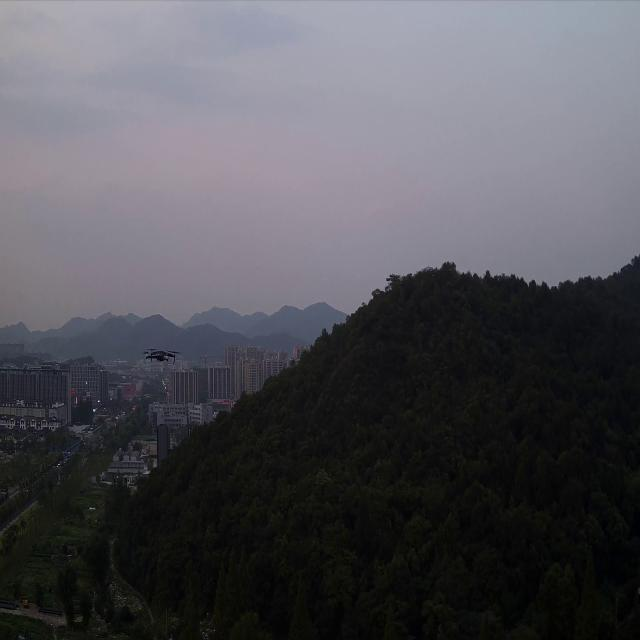UAV: (140, 346, 180, 366)
